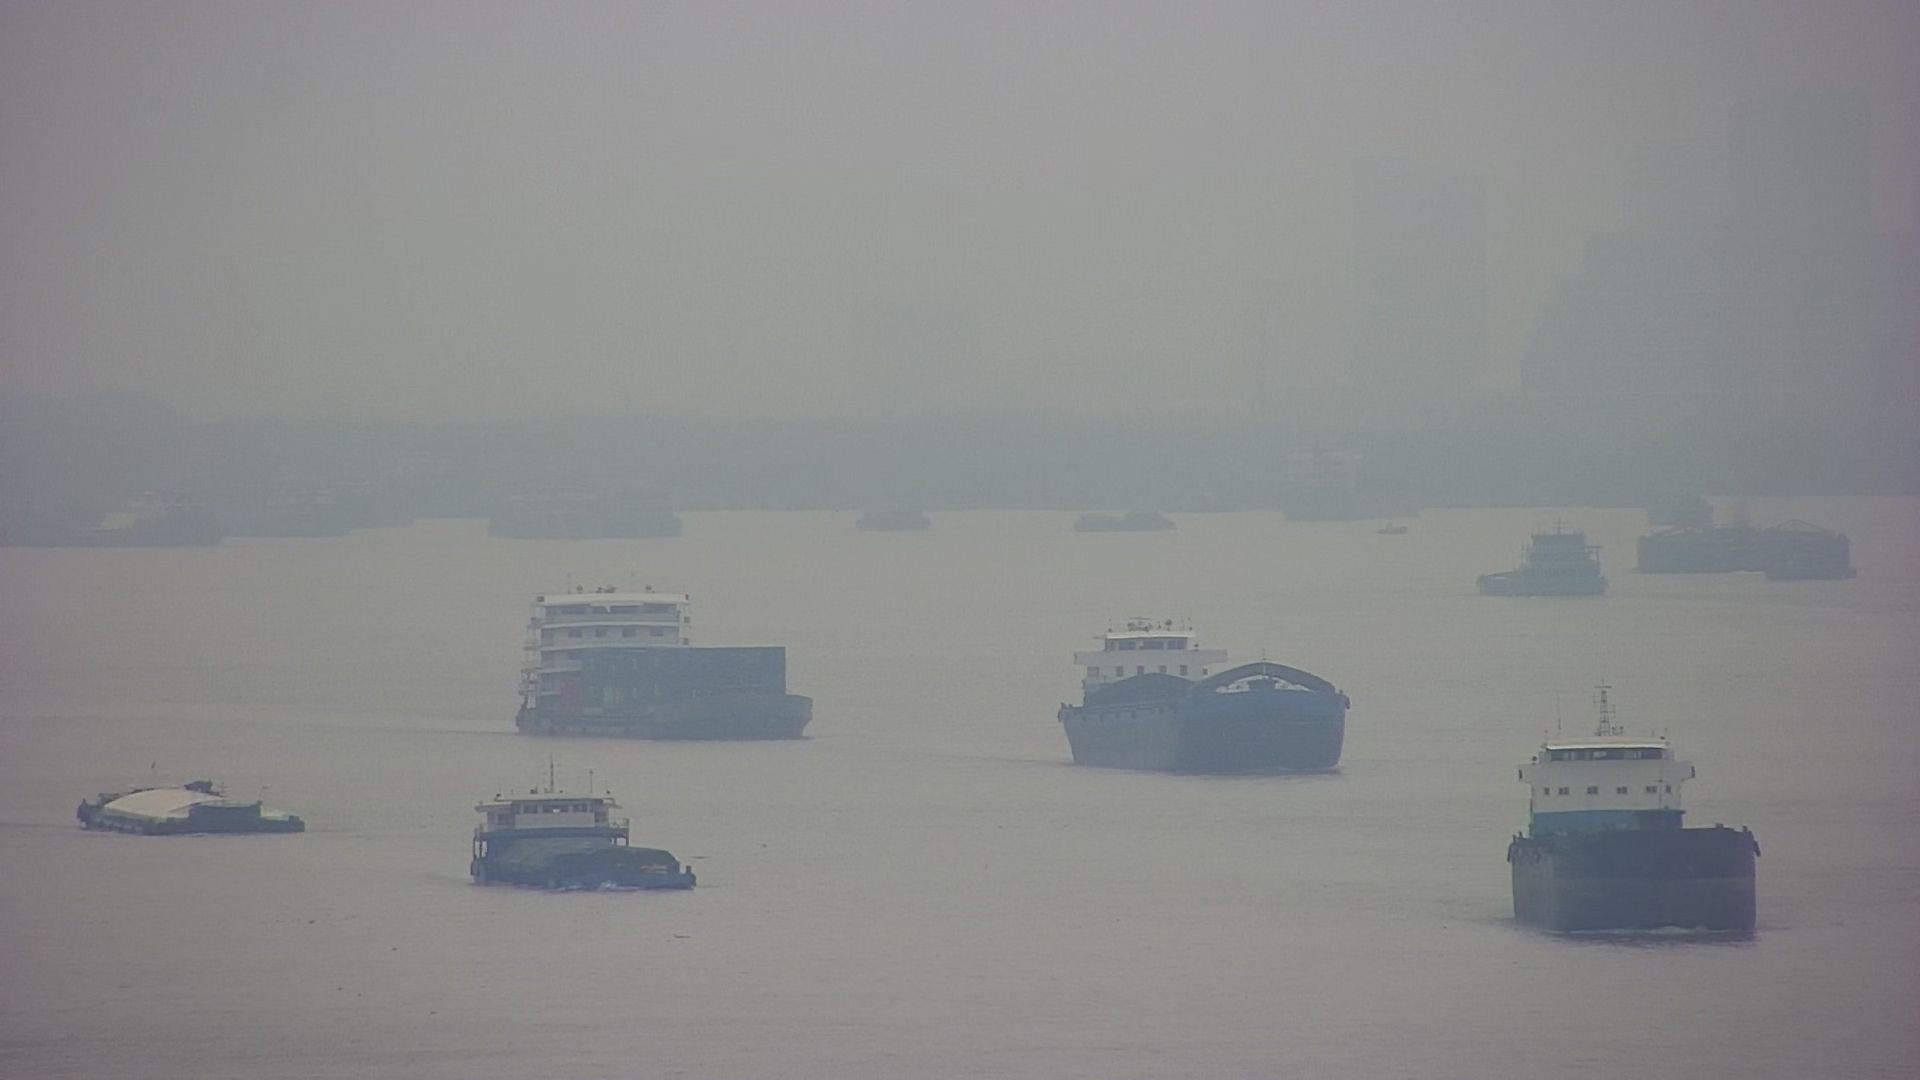ship: (1503, 715, 1760, 951), (510, 568, 818, 738), (1055, 618, 1352, 778), (460, 764, 702, 894), (71, 760, 307, 843), (1478, 527, 1614, 604)
